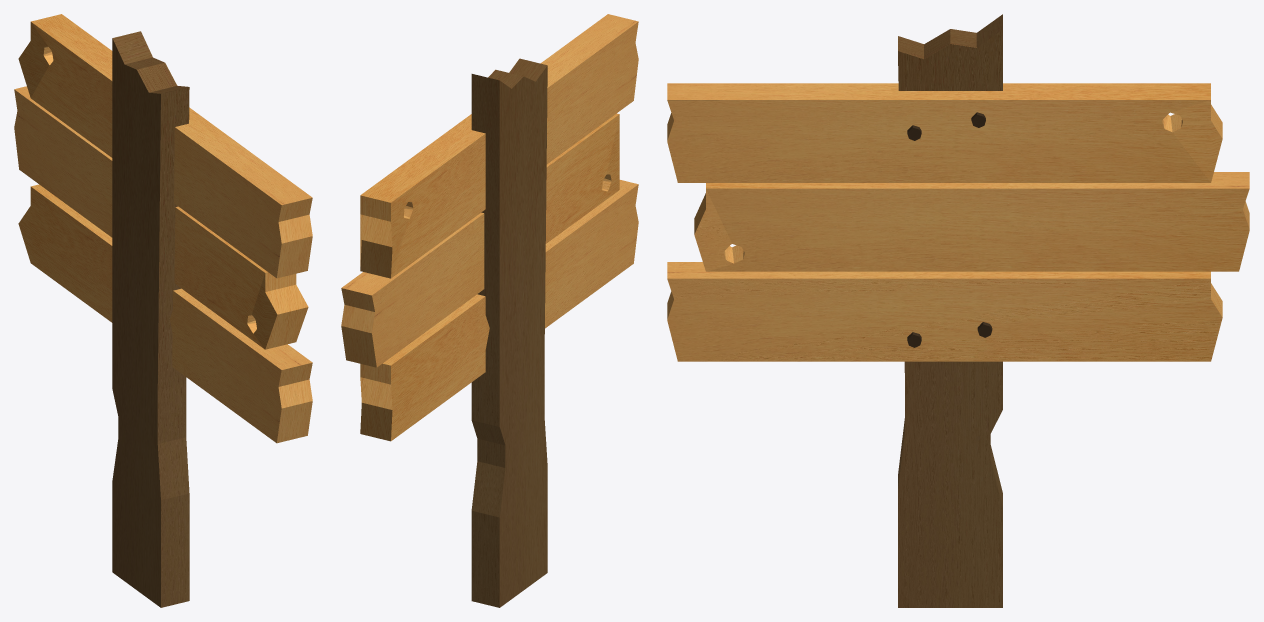
File: WoodenSign.fbx
3 views of the same model, side by side, from view 1: azimuth 30°, elevation 25°; view 2: azimuth 150°, elevation 25°; view 3: azimuth 270°, elevation 25° (orthographic). The views are drawn at different scales.
Visible parts, largest first — view 1: Cube, Plane, Plane.002, Plane.001; view 2: Cube, Plane, Plane.002, Plane.001; view 3: Plane, Plane.002, Plane.001, Cube.
Part boxes in pixels (x1,y1,x2,y2): Cube: (112,31,189,607); Plane: (18,14,312,278); Plane.002: (18,184,312,443); Plane.001: (14,86,308,349); Cube: (471,58,547,607); Plane: (360,14,638,278); Plane.002: (360,180,638,441); Plane.001: (341,113,619,367); Plane: (667,83,1222,182); Plane.002: (667,262,1222,361); Plane.001: (694,172,1249,271); Cube: (898,14,1002,607).
Bounding box in the file's own units: 30.95 × 295 × 269.
1 material, 1 textured.
